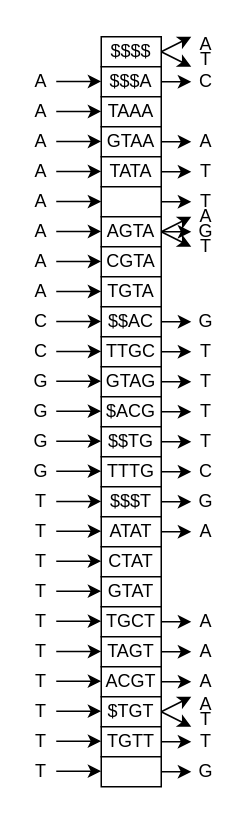
Image size: 246x813. Some labels were removed from this diagram. The box of each missing label's shape, as (x1, y1, x2, y2) in pixels:
GCTA: (100, 185, 161, 217)
GTTT: (100, 755, 161, 787)
